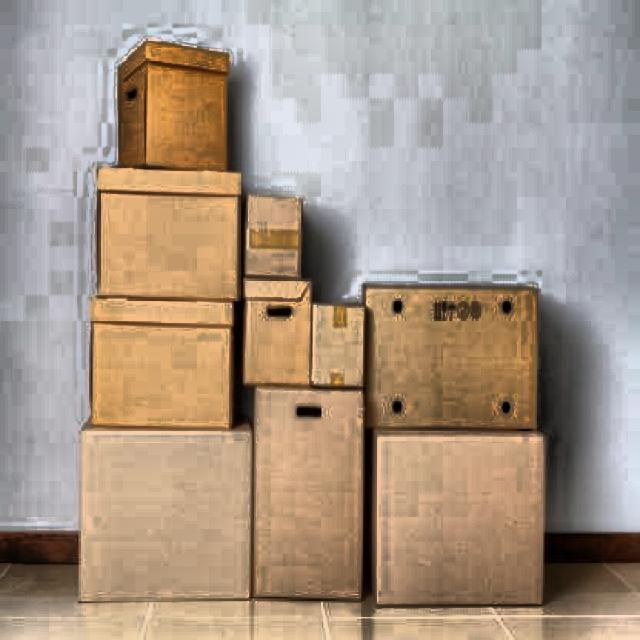Cardbox: (364, 415, 561, 608), (76, 417, 262, 605), (236, 375, 374, 614), (361, 279, 538, 449), (73, 286, 241, 433), (80, 165, 243, 302), (104, 40, 234, 211), (232, 269, 315, 390), (304, 283, 374, 386), (241, 187, 314, 281)
